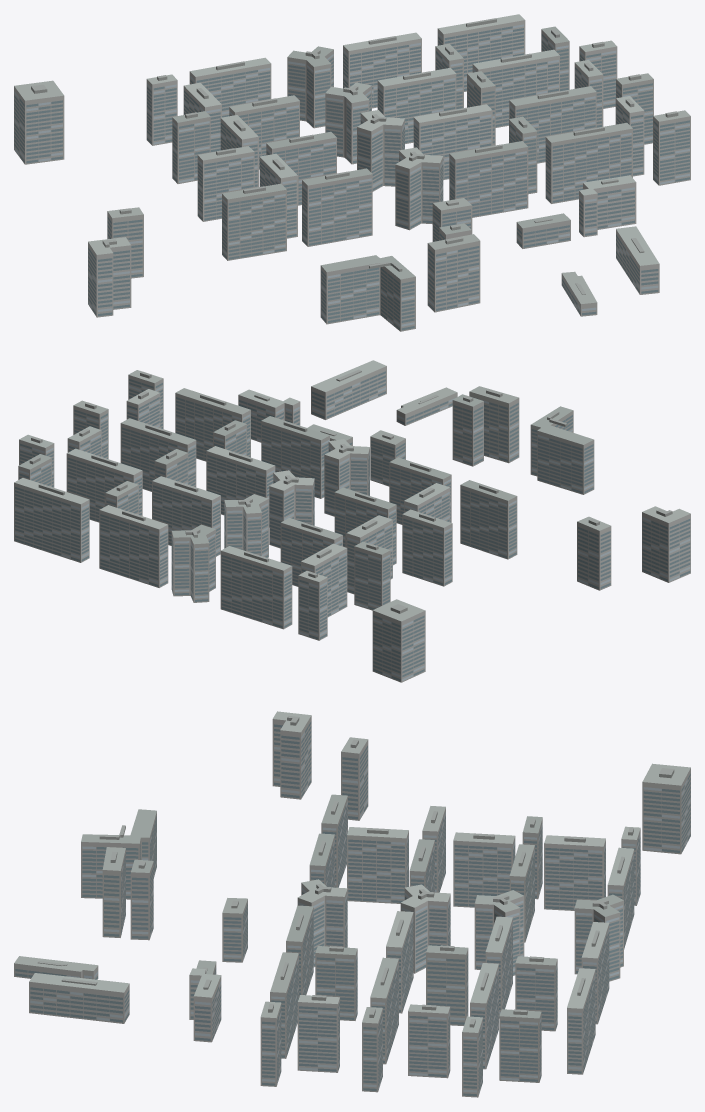
File: apt-a15728009.glb
3 renders of one model, top to bottom at view 1: azimuth 30°, elevation 25°; view 2: azimuth 150°, elevation 25°; view 3: azimuth 270°, elevation 25°, orthographic. The views are drawn at different scales.
Visible parts, largest first — view 1: apt-a15728009; view 2: apt-a15728009; view 3: apt-a15728009.
Boxes of the visible parts, box(x1,y1,x2,y2) form: apt-a15728009: box(14, 14, 690, 331); apt-a15728009: box(14, 360, 690, 682); apt-a15728009: box(14, 711, 690, 1097).
Size of the model in its own units: 465 by 51 by 418.
